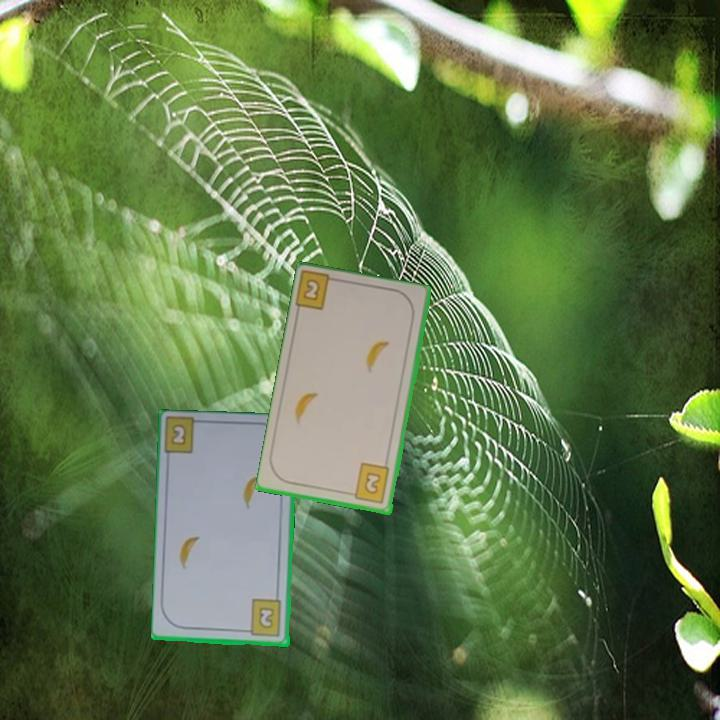2b: (346, 460, 393, 507), (293, 269, 343, 313), (241, 597, 285, 639), (168, 420, 189, 448)
